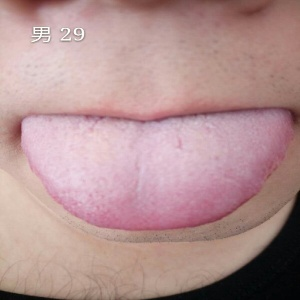st: (13, 114, 292, 234)
